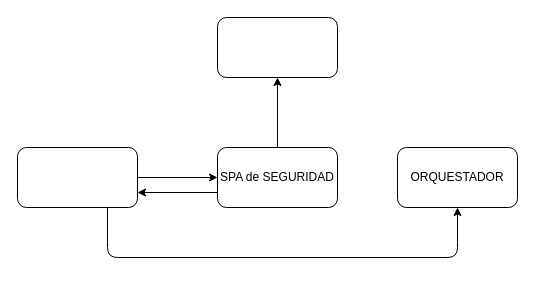
This 535x283 diagram has some shape labels left out. Each missing label, with the centre of its shape:
"ADAPTIVE" goes at pixel 277 47.
"BFF" goes at pixel 77 177.
